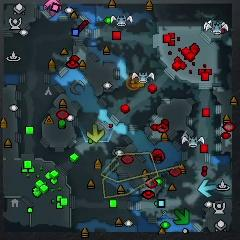x1: (42, 0, 63, 16)
x2: (85, 123, 105, 143)
x3: (198, 179, 218, 198)
x4: (173, 209, 190, 225)
x5: (128, 74, 147, 89)
